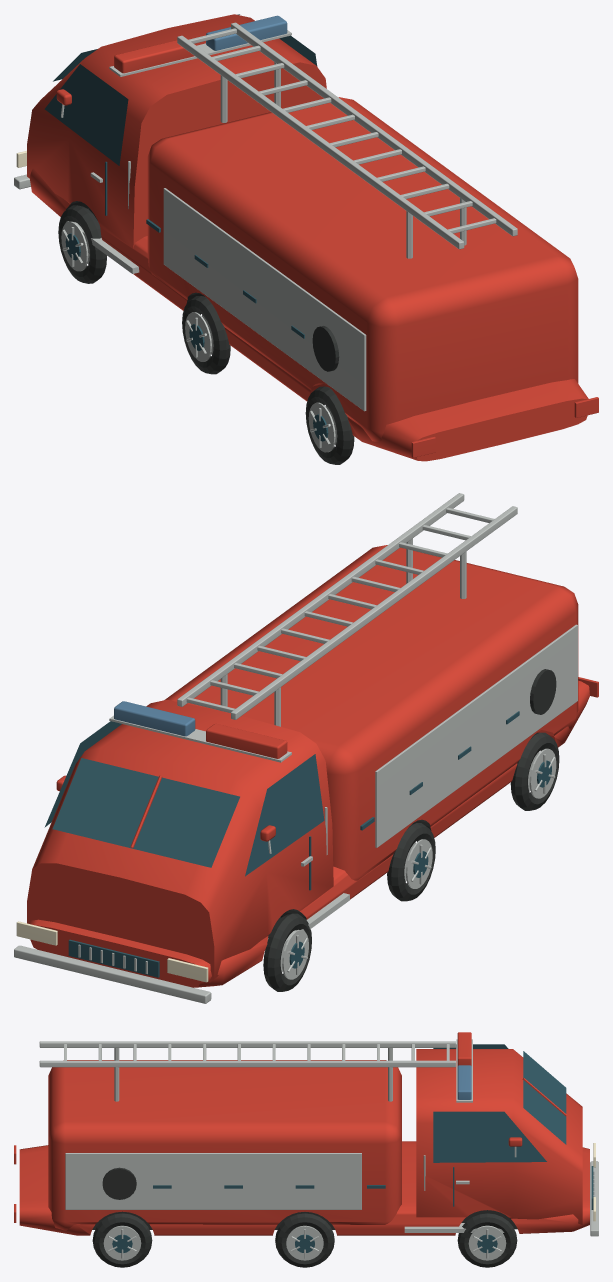
The model's file is fire_engine_detail.glb.
3 views of the same model, one above another, from view 1: azimuth 30°, elevation 25°; view 2: azimuth 150°, elevation 25°; view 3: azimuth 270°, elevation 25° (orthographic). The views are drawn at different scales.
Parts seen in each view (by area): view 1: FireEngineModel traffic_red, FireEngineModel traffic_metal, FireEngineModel traffic_glass, Rounded road tire.001, Rounded road tire.002, Rounded road tire, Emergency beacon.001, FireEngineModel traffic_rubber, Spin.001 traffic_metal, Spin traffic_metal, Spin.002 traffic_metal; view 2: FireEngineModel traffic_red, FireEngineModel traffic_metal, FireEngineModel traffic_glass, Rounded road tire.002, Rounded road tire.001, Rounded road tire, Emergency beacon.001, FireEngineModel traffic_light, FireEngineModel traffic_rubber, Spin traffic_metal, Spin.001 traffic_metal, Spin.002 traffic_metal; view 3: FireEngineModel traffic_red, FireEngineModel traffic_metal, FireEngineModel traffic_glass, Rounded road tire.004, Rounded road tire.003, Rounded road tire.005, FireEngineModel traffic_rubber, Spin.003 traffic_metal, Spin.005 traffic_metal, Spin.004 traffic_metal, Emergency beacon.001.
Boxes of the visible parts, <box> form: FireEngineModel traffic_red: <box>27,14,598,461</box>; FireEngineModel traffic_metal: <box>14,22,517,411</box>; FireEngineModel traffic_glass: <box>44,14,317,338</box>; Rounded road tire.001: <box>182,296,230,374</box>; Rounded road tire.002: <box>58,205,106,283</box>; Rounded road tire: <box>305,386,354,464</box>; Emergency beacon.001: <box>206,15,287,50</box>; FireEngineModel traffic_rubber: <box>312,326,339,371</box>; Spin.001 traffic_metal: <box>185,312,213,361</box>; Spin traffic_metal: <box>308,402,337,452</box>; Spin.002 traffic_metal: <box>61,221,89,271</box>; FireEngineModel traffic_red: <box>27,545,598,987</box>; FireEngineModel traffic_metal: <box>14,493,577,1003</box>; FireEngineModel traffic_glass: <box>44,711,519,977</box>; Rounded road tire.002: <box>263,913,311,991</box>; Rounded road tire.001: <box>387,823,435,901</box>; Rounded road tire: <box>510,732,559,810</box>; Emergency beacon.001: <box>114,701,195,736</box>; FireEngineModel traffic_light: <box>16,921,208,982</box>; FireEngineModel traffic_rubber: <box>530,669,556,714</box>; Spin traffic_metal: <box>528,748,556,798</box>; Spin.001 traffic_metal: <box>404,839,432,888</box>; Spin.002 traffic_metal: <box>280,929,308,979</box>; FireEngineModel traffic_red: <box>14,1032,589,1235</box>; FireEngineModel traffic_metal: <box>39,1039,598,1236</box>; FireEngineModel traffic_glass: <box>153,1044,593,1209</box>; Rounded road tire.004: <box>275,1213,334,1267</box>; Rounded road tire.003: <box>92,1213,152,1267</box>; Rounded road tire.005: <box>457,1213,517,1267</box>; FireEngineModel traffic_rubber: <box>102,1167,136,1199</box>; Spin.003 traffic_metal: <box>103,1225,141,1260</box>; Spin.005 traffic_metal: <box>468,1226,506,1260</box>; Spin.004 traffic_metal: <box>286,1225,323,1260</box>; Emergency beacon.001: <box>457,1065,471,1099</box>.
Size of the model in its own units: 2.5 by 2.55 by 7.56.
